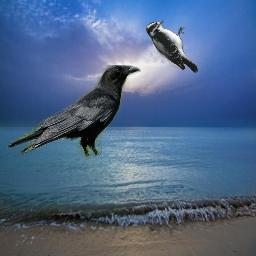Crow: (7, 65, 141, 159)
Woodpecker: (146, 20, 198, 73)
